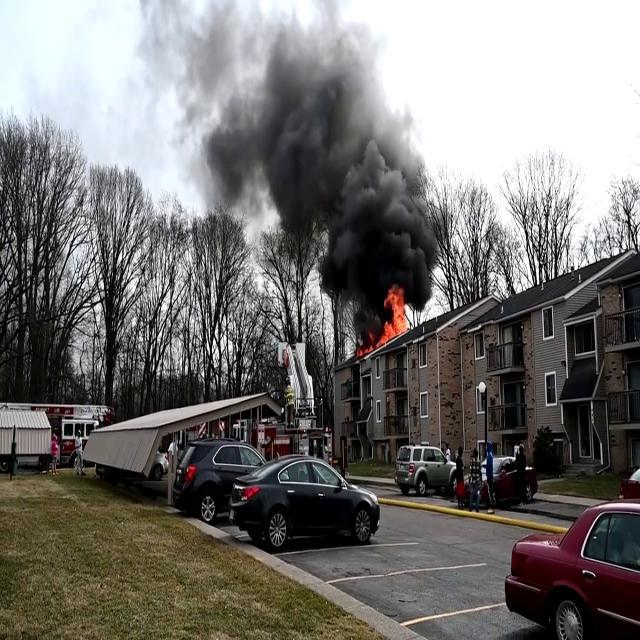Fire: (380, 282, 410, 346)
Smoke: (189, 1, 442, 306)
